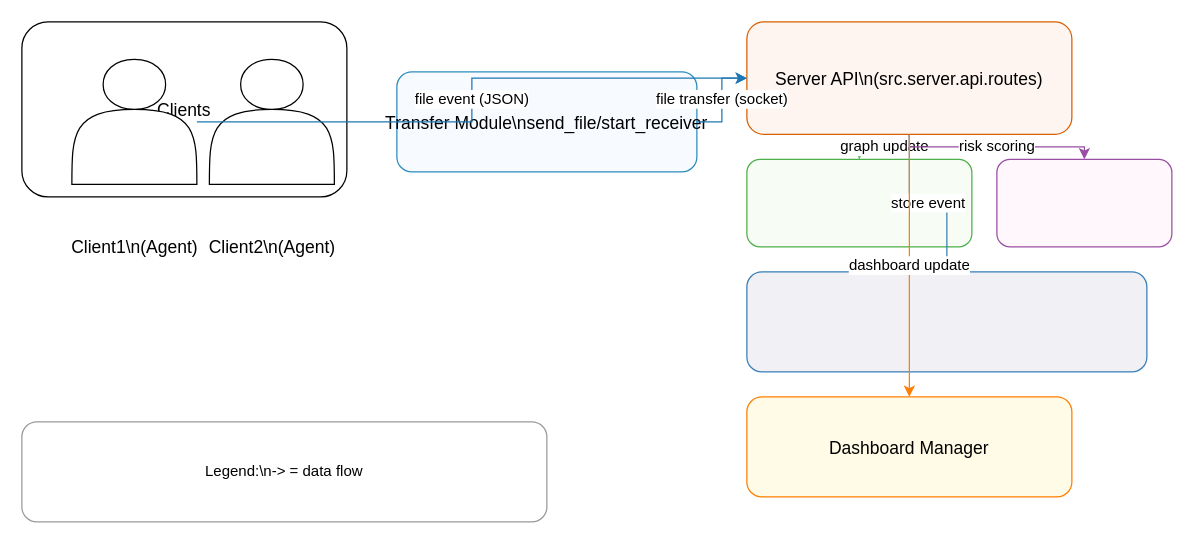
This 1194x544 diagram has some shape labels left out. The box of each missing label's shape, as (x1, y1, x2, y2) in pixels:
Database\n(EventLog): (746, 271, 1147, 372)
GraphEngine\n(TransferGraph): (746, 158, 972, 247)
RiskEngine: (996, 158, 1172, 247)
